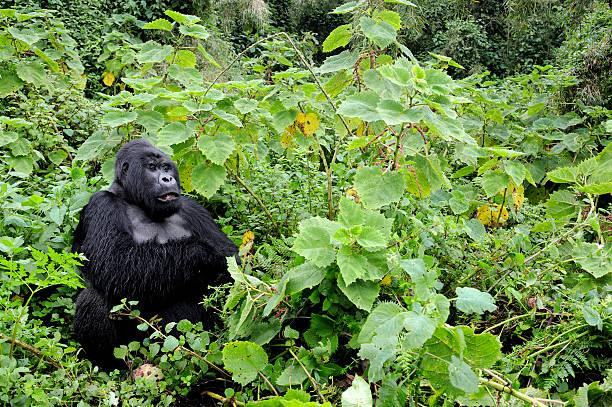goriile_montagne: (78, 139, 241, 352)
